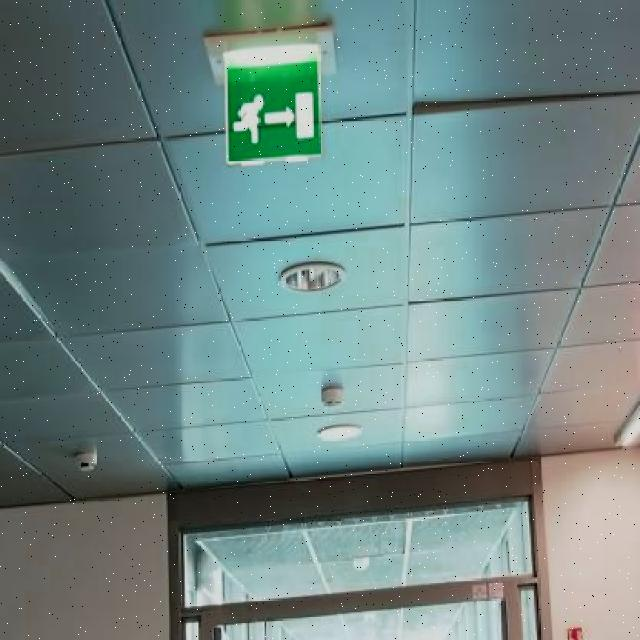emergency_exit: (222, 43, 323, 165)
